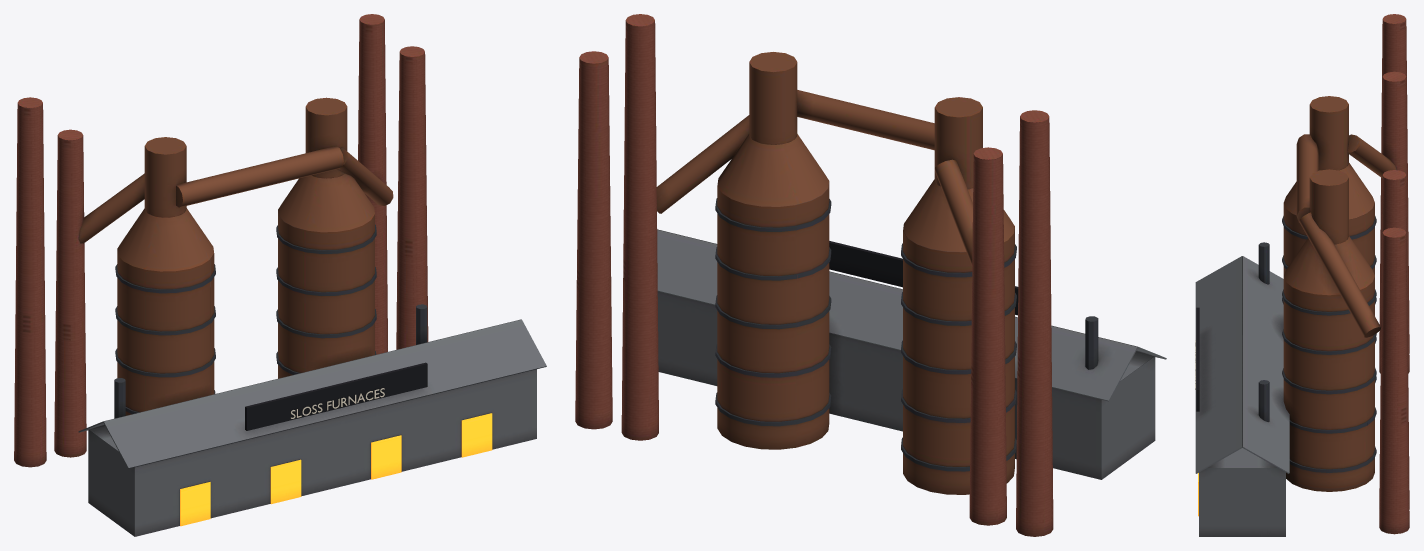
Rendered from sloss_hornos.glb.
3 renders of one model, left to right at view 1: azimuth 30°, elevation 25°; view 2: azimuth 150°, elevation 25°; view 3: azimuth 270°, elevation 25°, orthographic. The views are drawn at different scales.
Visible parts, largest first — view 1: sloss_hornos; view 2: sloss_hornos; view 3: sloss_hornos.
Part boxes in pixels (x1=…): sloss_hornos: x1=14, y1=14, x2=546, y2=536; sloss_hornos: x1=575, y1=14, x2=1166, y2=536; sloss_hornos: x1=1195, y1=14, x2=1409, y2=536.
Bounding box in the file's own units: 42.2 × 34 × 19.75.
1 material, 1 textured.
